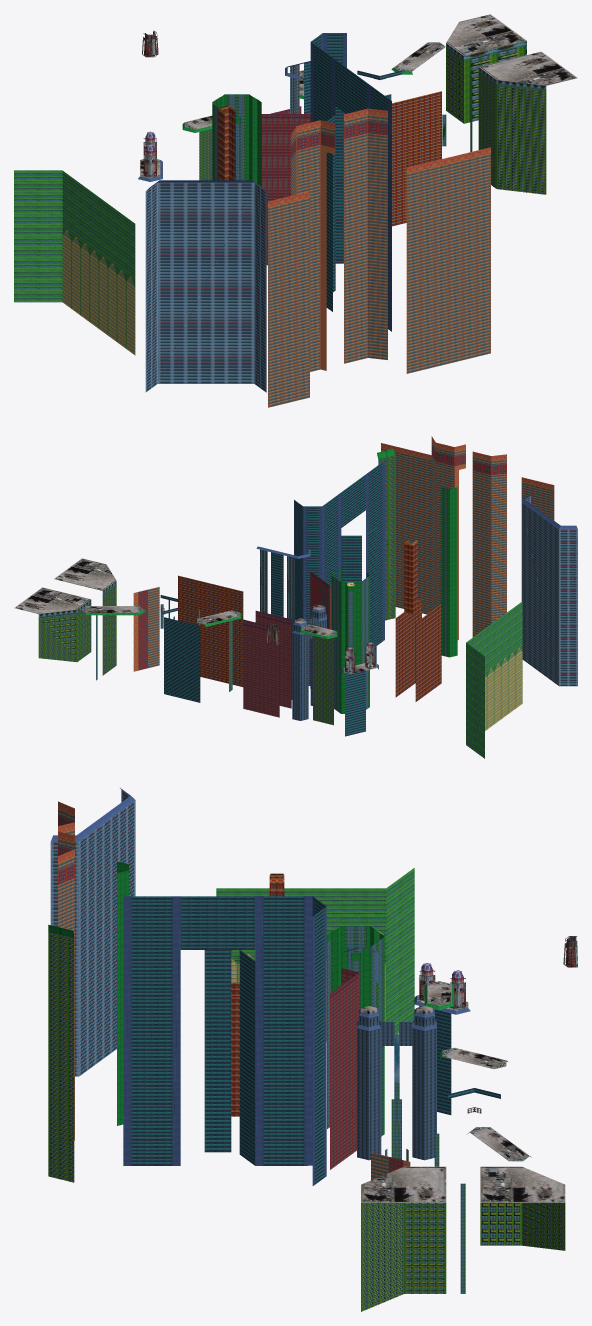
3 views of the same model, one above another, from view 1: azimuth 30°, elevation 25°; view 2: azimuth 150°, elevation 25°; view 3: azimuth 270°, elevation 25° (orthographic). The views are drawn at different scales.
Parts seen in each view (by area): view 1: s03_pn_09_2, s03_pn_09_14, s03_pn_09_9, s03_pn_09_15, s03_pn_09_12, s03_pn_09_22, s03_pn_09_11, s03_pn_09_20, s03_pn_09_17, s03_pn_09_13, s03_pn_09_5, s03_pn_09_4 (+7 smaller); view 2: s03_pn_09_2, s03_pn_09_12, s03_pn_09_14, s03_pn_09_15, s03_pn_09_4, s03_pn_09_17, s03_pn_09_7, s03_pn_09_20, s03_pn_09_9, s03_pn_09_22, s03_pn_09_13, s03_pn_09_5 (+8 smaller); view 3: s03_pn_09_12, s03_pn_09_15, s03_pn_09_13, s03_pn_09_14, s03_pn_09_22, s03_pn_09_9, s03_pn_09_21, s03_pn_09_4, s03_pn_09_17, s03_pn_09_5, s03_pn_09_2, s03_pn_09_7 (+1 smaller).
Boxes of the visible parts, x1=… form: s03_pn_09_2: x1=268, y1=114, x2=490, y2=407; s03_pn_09_14: x1=145, y1=182, x2=266, y2=392; s03_pn_09_9: x1=14, y1=170, x2=135, y2=302; s03_pn_09_15: x1=199, y1=45, x2=546, y2=194; s03_pn_09_12: x1=304, y1=33, x2=402, y2=328; s03_pn_09_22: x1=140, y1=14, x2=577, y2=176; s03_pn_09_11: x1=62, y1=237, x2=135, y2=355; s03_pn_09_20: x1=392, y1=91, x2=441, y2=226; s03_pn_09_17: x1=261, y1=113, x2=310, y2=265; s03_pn_09_13: x1=138, y1=33, x2=391, y2=331; s03_pn_09_5: x1=214, y1=75, x2=472, y2=184; s03_pn_09_4: x1=182, y1=67, x2=445, y2=186; s03_pn_09_2: x1=148, y1=441, x2=554, y2=668; s03_pn_09_12: x1=160, y1=462, x2=382, y2=736; s03_pn_09_14: x1=521, y1=495, x2=577, y2=686; s03_pn_09_15: x1=38, y1=455, x2=395, y2=725; s03_pn_09_4: x1=85, y1=449, x2=457, y2=713; s03_pn_09_17: x1=243, y1=574, x2=331, y2=717; s03_pn_09_7: x1=395, y1=539, x2=441, y2=701; s03_pn_09_20: x1=178, y1=575, x2=243, y2=686; s03_pn_09_9: x1=466, y1=601, x2=522, y2=758; s03_pn_09_22: x1=14, y1=558, x2=376, y2=674; s03_pn_09_13: x1=256, y1=460, x2=577, y2=673; s03_pn_09_5: x1=96, y1=488, x2=446, y2=712; s03_pn_09_12: x1=131, y1=896, x2=500, y2=1184; s03_pn_09_15: x1=48, y1=932, x2=565, y2=1311; s03_pn_09_13: x1=51, y1=788, x2=470, y2=1185; s03_pn_09_14: x1=50, y1=790, x2=135, y2=1076; s03_pn_09_22: x1=360, y1=984, x2=565, y2=1202; s03_pn_09_9: x1=216, y1=868, x2=414, y2=1034; s03_pn_09_21: x1=357, y1=1015, x2=436, y2=1160; s03_pn_09_4: x1=48, y1=861, x2=531, y2=1157; s03_pn_09_17: x1=330, y1=972, x2=358, y2=1169; s03_pn_09_5: x1=327, y1=926, x2=465, y2=1293; s03_pn_09_2: x1=58, y1=808, x2=388, y2=1180; s03_pn_09_7: x1=231, y1=875, x2=284, y2=1116.
Bounding box in the file's own units: 12875 × 5670 × 9951.
